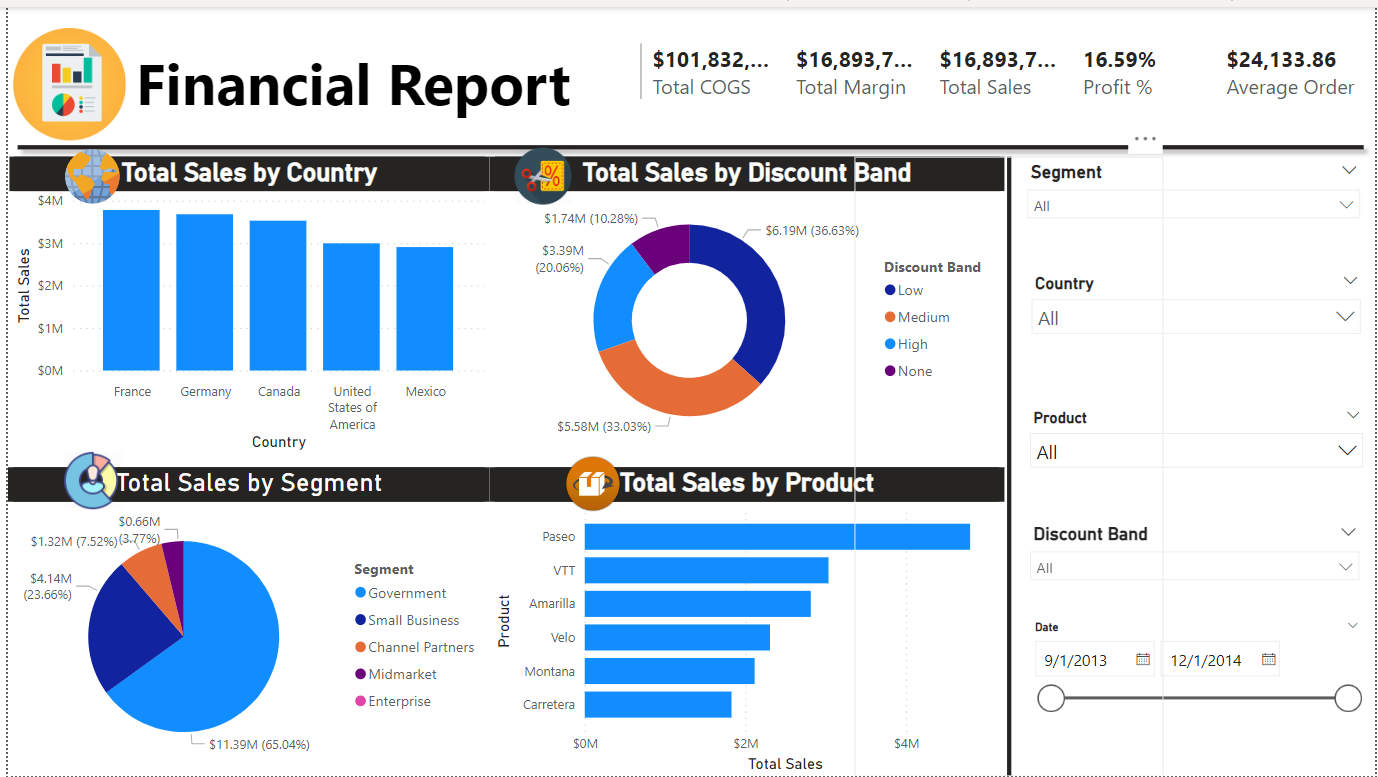

The dashboard page shown, as its layout file describes it:
{"tool":"powerbi","page":{"name":"Page 1","canvas":[1280,720],"ordinal":0},"visuals":[{"type":"columnChart","fields":{"Category":["financials.Country"],"Y":["financials.Total Sales"]},"box":[1.7,140.7,449.6,279.7],"z":0},{"type":"pieChart","fields":{"Y":["financials.Total Sales"],"Category":["financials.Segment"]},"box":[0,430.7,451.3,290],"z":1},{"type":"donutChart","fields":{"Category":["financials.Discount Band"],"Y":["financials.Total Sales"]},"box":[451.3,140.7,482.2,279.7],"z":2},{"type":"barChart","fields":{"Y":["financials.Total Sales"],"Category":["financials.Product"]},"box":[451.3,430.7,482.2,290],"z":3},{"type":"multiRowCard","fields":{"Values":["financials.Total COGS","financials.Total Margin","financials.Total Sales","financials.Profit %","financials.Average Order"]},"box":[586.8,29.2,693.2,97.8],"z":4},{"type":"slicer","fields":{"Values":["financials.Country"]},"box":[948.9,243.7,327.7,70.4],"z":5},{"type":"slicer","fields":{"Values":["financials.Product"]},"box":[947.2,370.6,331.2,60.1],"z":6},{"type":"slicer","fields":{"Values":["financials.Date"]},"box":[948.9,569.7,327.7,99.5],"z":7},{"type":"slicer","fields":{"Values":["financials.Discount Band"]},"box":[947.2,478.7,327.7,68.6],"z":8},{"type":"slicer","fields":{"Values":["financials.Segment"]},"box":[945.5,140.7,331.2,75.5],"z":9},{"type":"textbox","box":[115,29.2,437.6,84.1],"z":10},{"type":"image","box":[0,0,115,144.1],"z":11},{"type":"shape","box":[0,72.1,1278.4,118.4],"z":12},{"type":"shape","box":[792.8,140.7,290,580],"z":13},{"type":"image","box":[42.9,99.5,72.1,116.7],"z":14},{"type":"image","box":[463.3,127,75.5,63.5],"z":15},{"type":"image","box":[46.3,399.8,65.2,85.8],"z":16},{"type":"image","box":[403.2,413.5,290,65.2],"z":17}]}

Visuals, with their boxes in screenshot pixels (x1, y1, x2, y2), scaled from the page's 1280x720 canvas onto the 1378x777 screenshot:
columnChart - financials.Country x financials.Total Sales: select_region(2, 152, 486, 454)
pieChart - financials.Total Sales x financials.Segment: select_region(0, 465, 486, 776)
donutChart - financials.Discount Band x financials.Total Sales: select_region(486, 152, 1005, 454)
barChart - financials.Total Sales x financials.Product: select_region(486, 465, 1005, 776)
multiRowCard - financials.Total COGS x financials.Total Margin: select_region(632, 32, 1377, 137)
slicer - financials.Country: select_region(1022, 263, 1374, 339)
slicer - financials.Product: select_region(1020, 400, 1376, 465)
slicer - financials.Date: select_region(1022, 615, 1374, 722)
slicer - financials.Discount Band: select_region(1020, 517, 1373, 591)
slicer - financials.Segment: select_region(1018, 152, 1374, 233)
textbox: select_region(124, 32, 595, 122)
image: select_region(0, 0, 124, 156)
shape: select_region(0, 78, 1376, 206)
shape: select_region(853, 152, 1166, 776)
image: select_region(46, 107, 124, 233)
image: select_region(499, 137, 580, 206)
image: select_region(50, 431, 120, 524)
image: select_region(434, 446, 746, 517)
